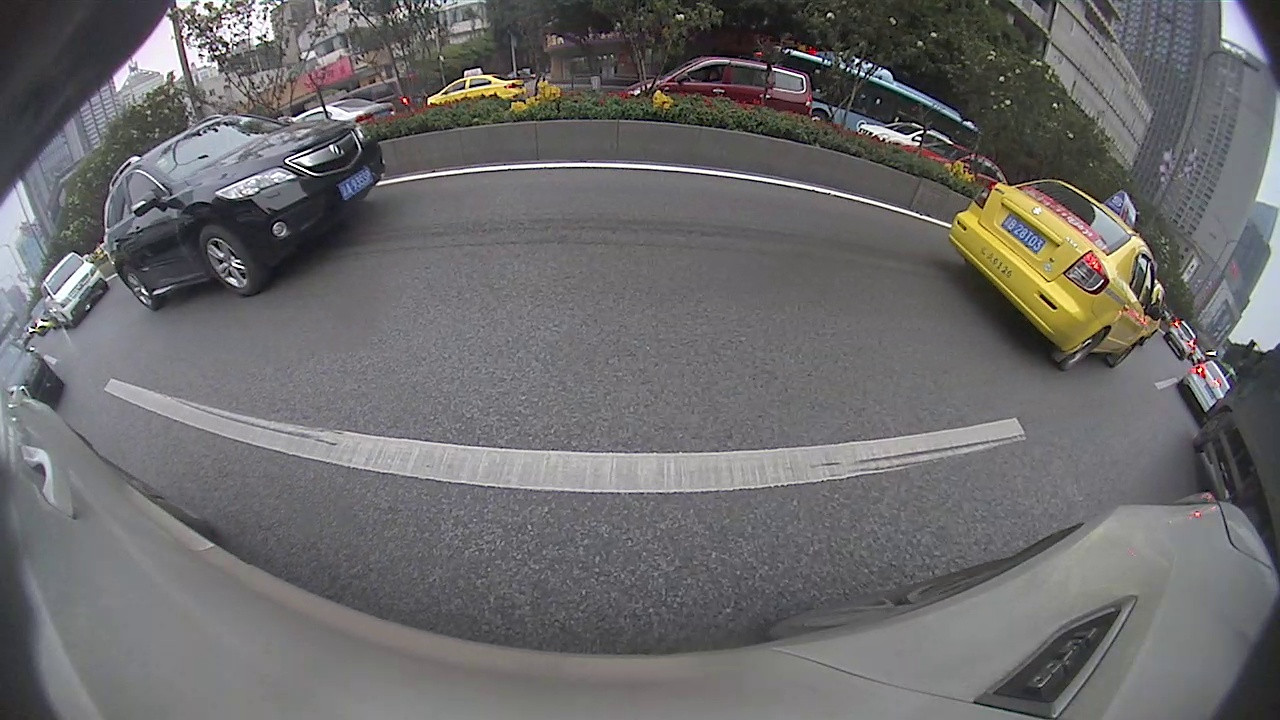car: (103, 109, 385, 311), (945, 176, 1154, 372), (39, 254, 108, 329), (1183, 358, 1240, 422), (1167, 318, 1196, 362)
front: (201, 224, 257, 295), (806, 109, 831, 129)
rear: (1060, 330, 1109, 371), (118, 264, 157, 310)
